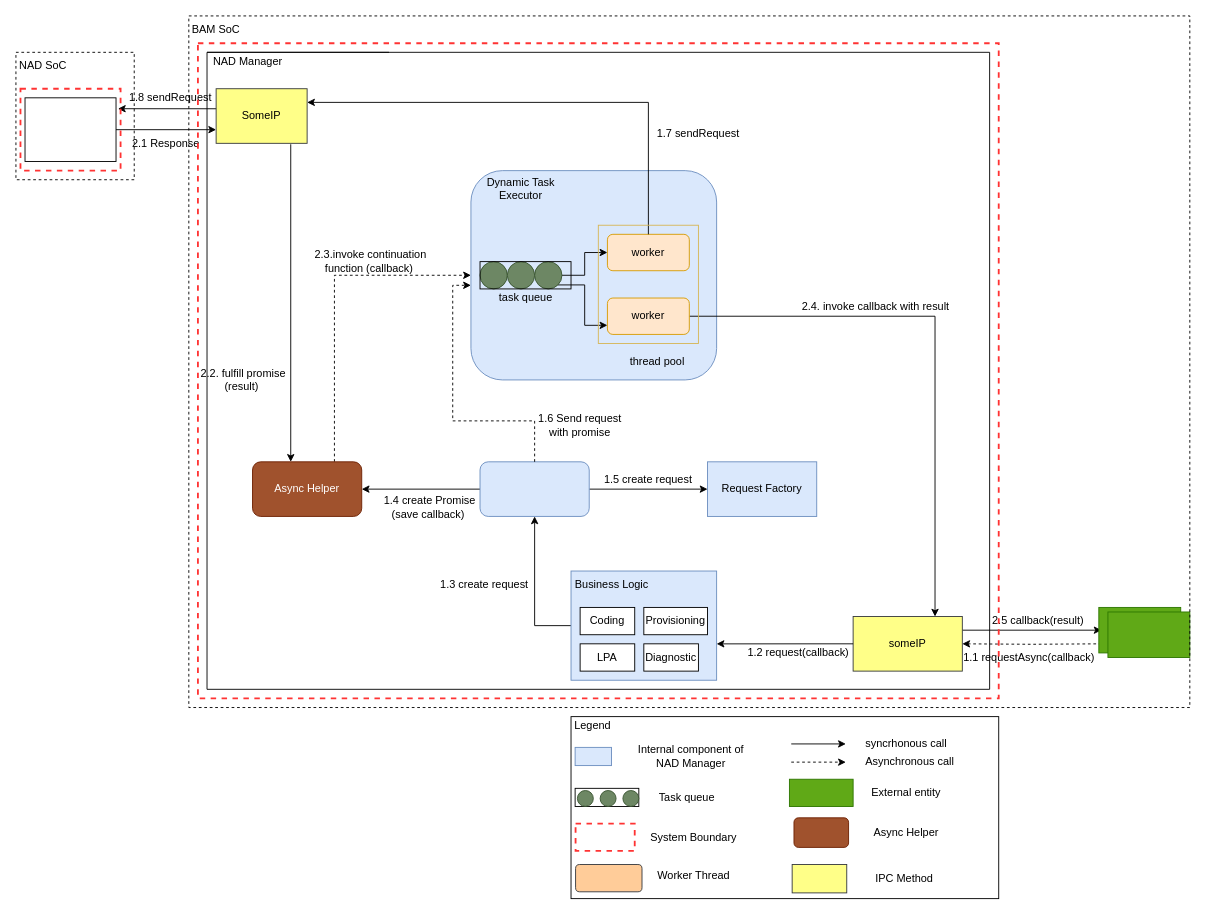
Image size: 1206x915. Some labels were removed from this diagram. Here are the shapes that lost their labels. From the top down, the centre of each, then its label:
At point 70,129: "NAD Relay".
At point 534,488: "request Manager".
At point 1148,634: "BAM Services".
